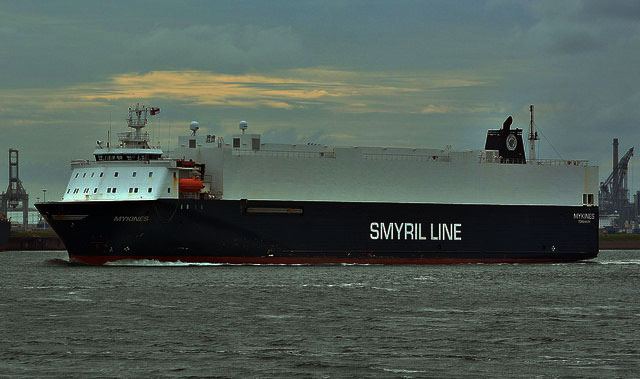PCC: (33, 109, 604, 261)
